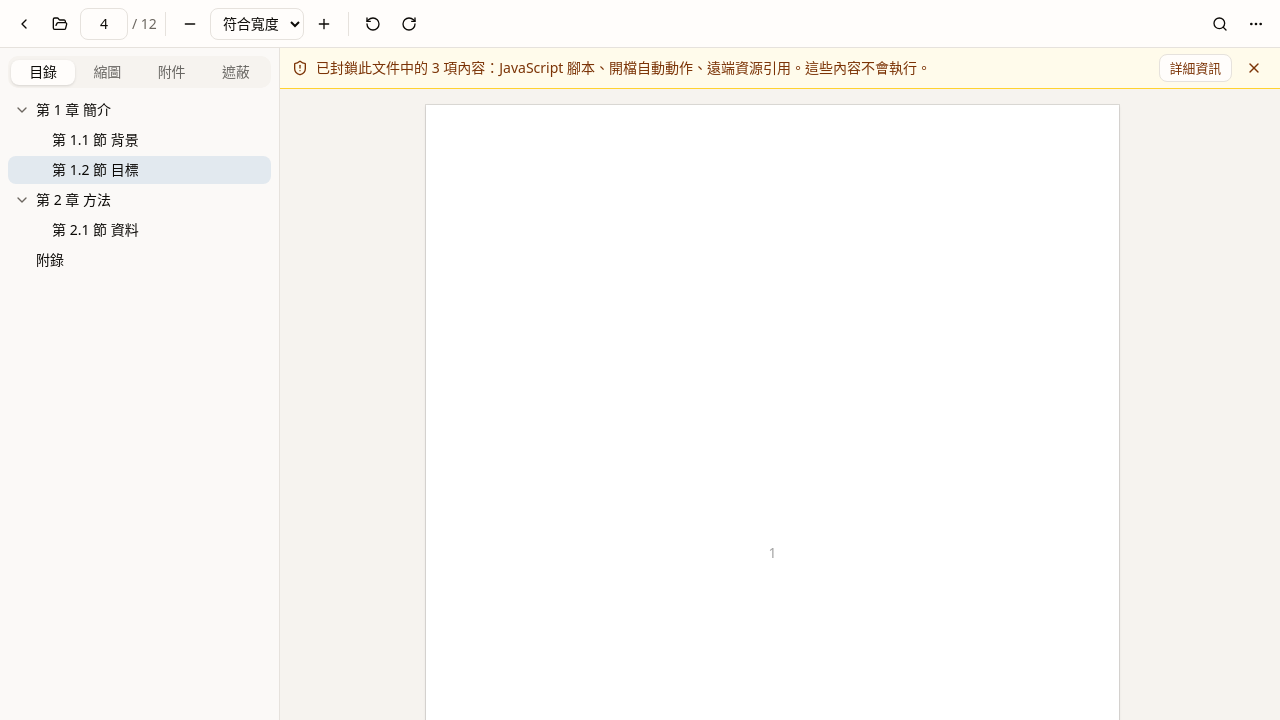
settings (B2-12) › turning off the recent files list saves it, and no file can be marked any more
Click the button named "更多" at (1256, 24), box [1240,8,1272,40]
(page scrolled)
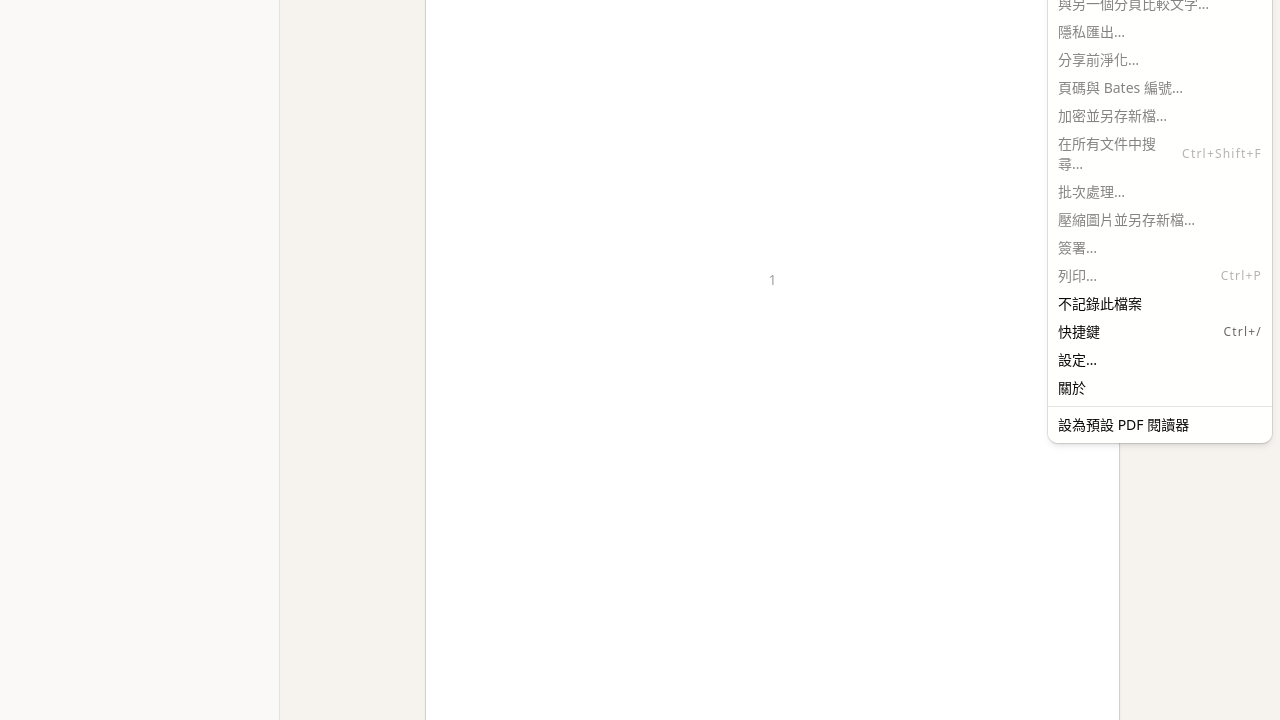
Click the menu item "設定…" at (1078, 360), box [1058,350,1097,369]
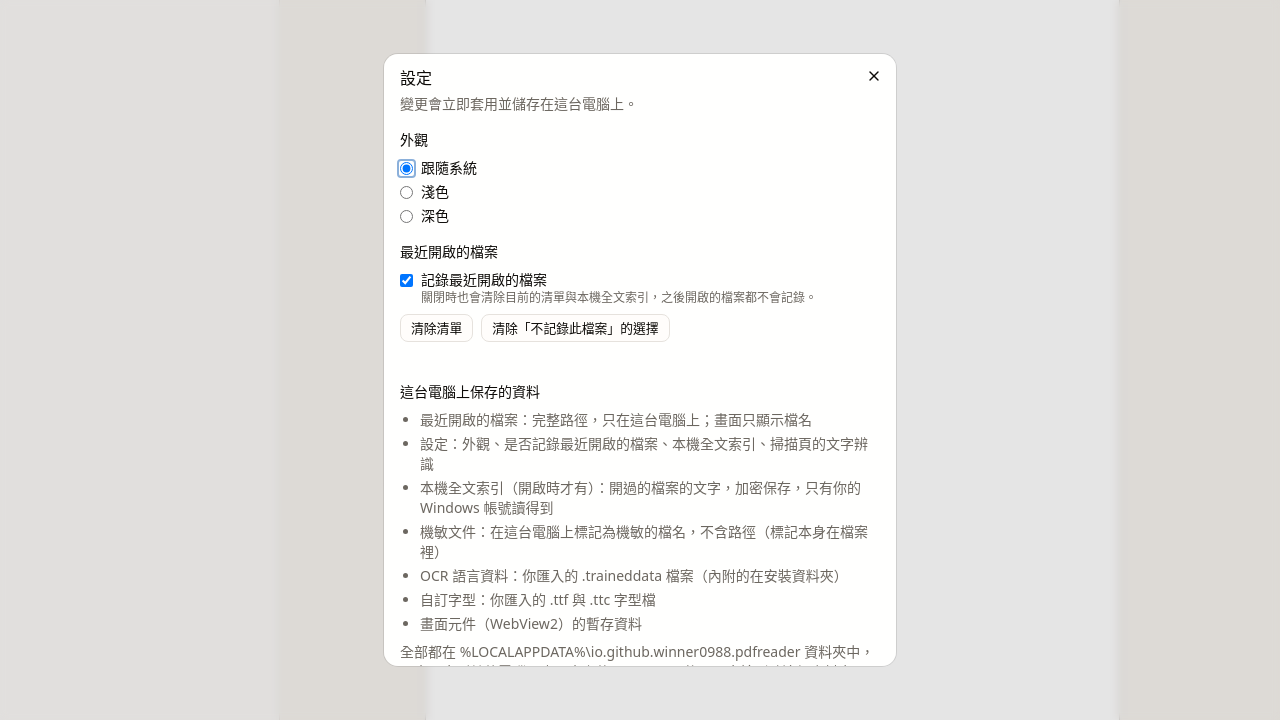
Click the checkbox labelled "記錄最近開啟的檔案 關閉時也會清除目前的清單與本機全文索引，之後開啟的檔案都不會記錄。" at (406, 280), box [400,274,413,287]
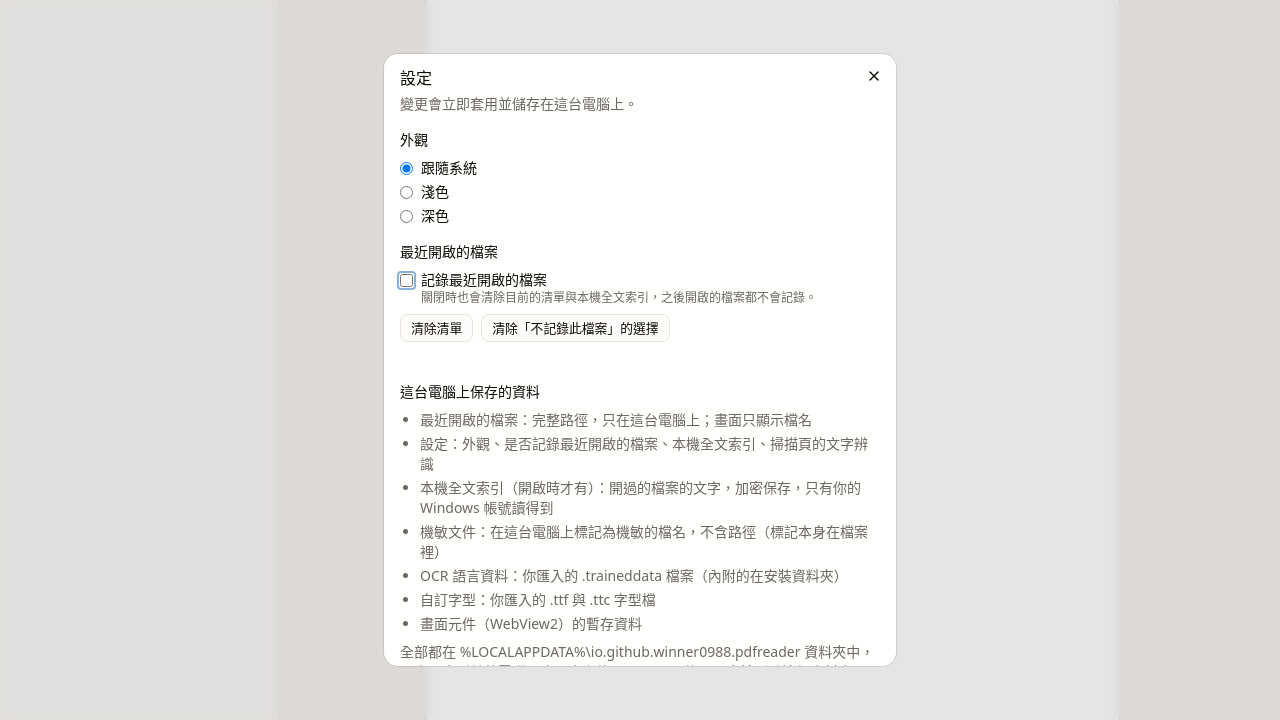
Press Escape
(page scrolled)
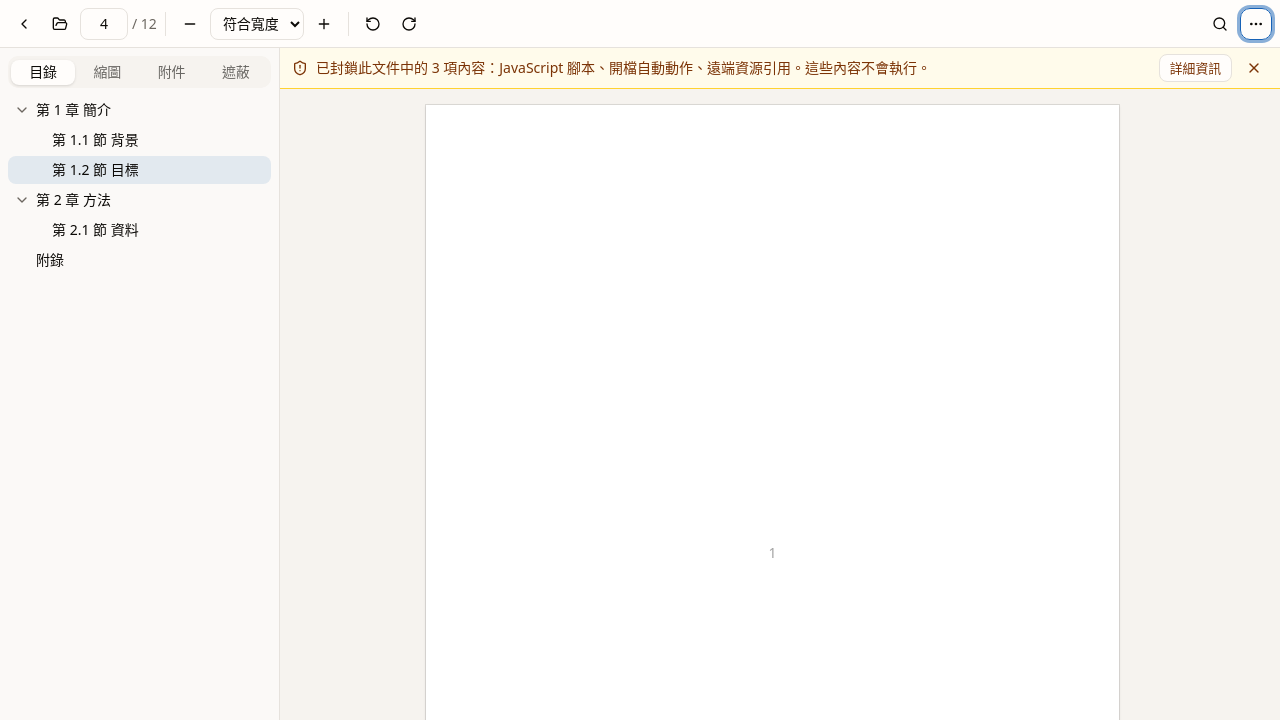
Click the button named "更多" at (1256, 24), box [1240,8,1272,40]
(page scrolled)
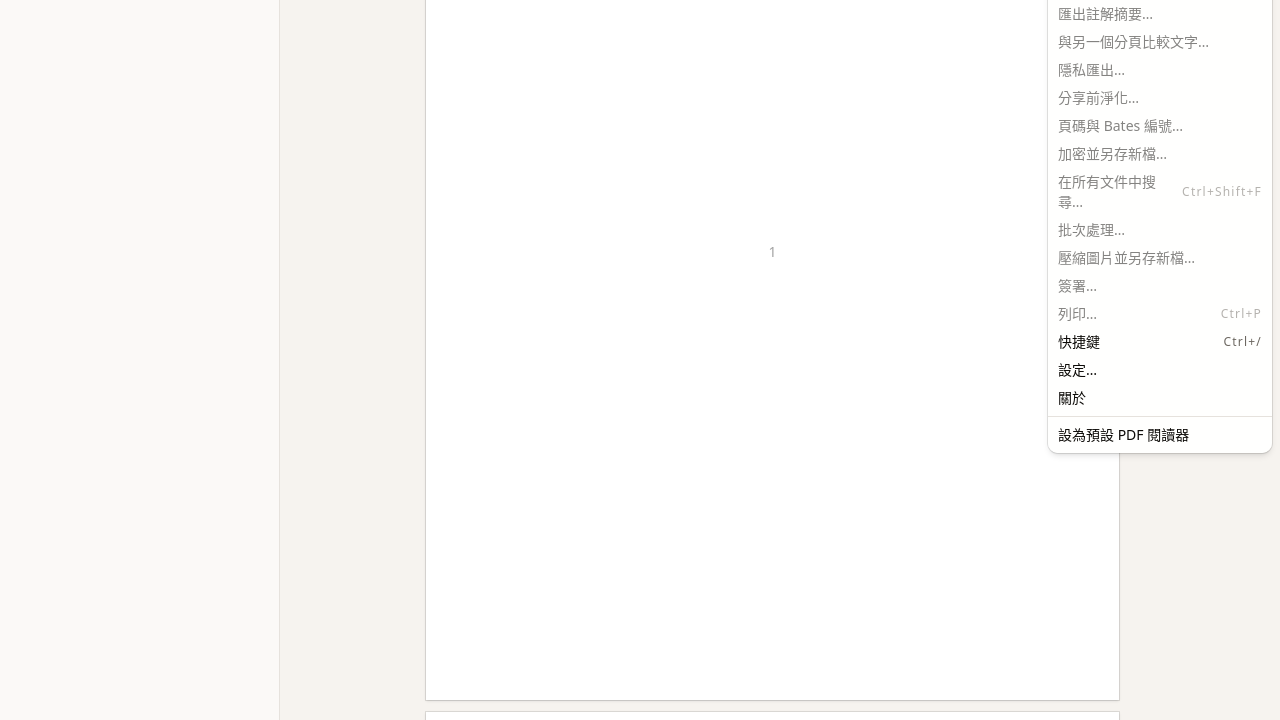
Expected: the button "不記錄此檔案" is not shown
Now the menu item "關於" is shown, box [1058,388,1086,407]
